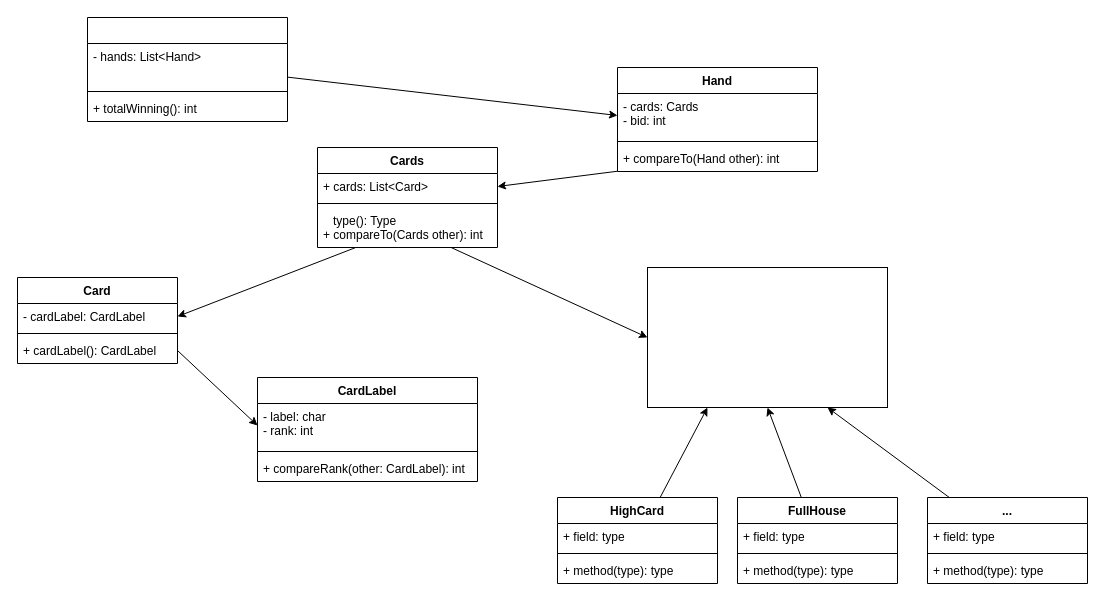
This 1105x604 diagram has some shape labels left out. The shapes that lost their labels are listed below. From the top down, each one's box as (x1, y1, x2, y2) in pixels, then its label:
(86, 16, 288, 122): CamelCards
(646, 266, 888, 408): <<Interface>> Type isStrongerthan(Type other): boolean
